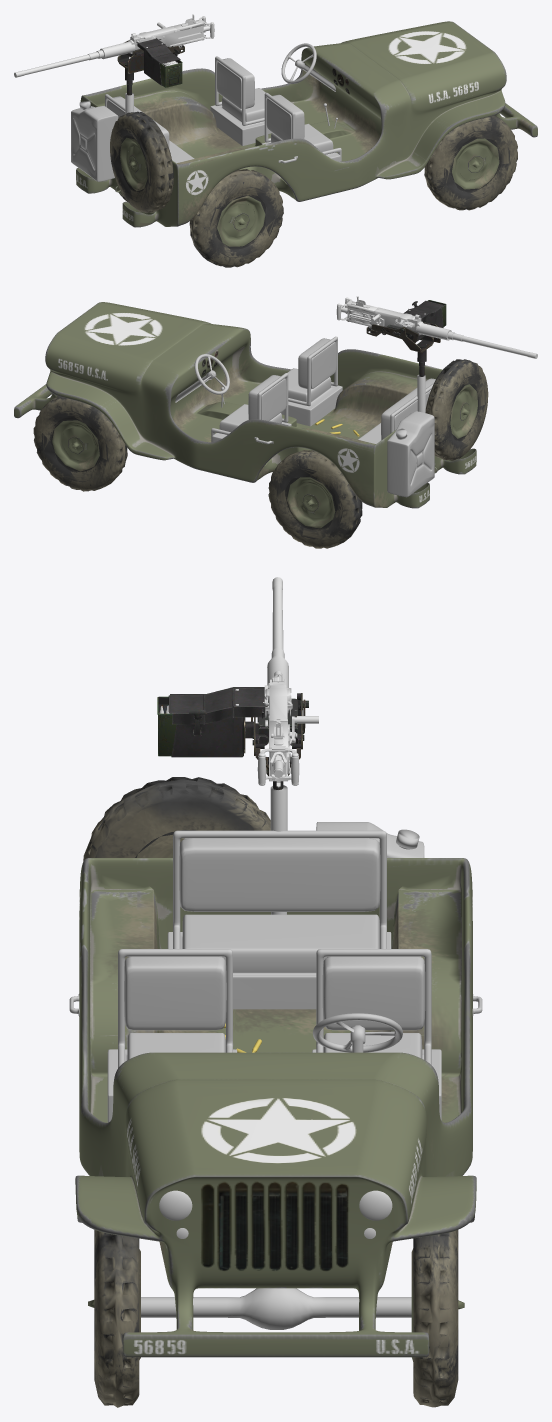
The model's file is car.fbx.
3 views of the same model, one above another, from view 1: azimuth 30°, elevation 25°; view 2: azimuth 150°, elevation 25°; view 3: azimuth 270°, elevation 25° (orthographic). The views are drawn at different scales.
Visible parts, largest first — view 1: Cube, Cube.006, Cylinder.002, Cylinder.003, Cylinder.004, M2_00, M2_02; view 2: Cube, Cube.006, Cylinder.001, Cylinder, Cylinder.004, M2_00, M2_02, M2_01, Cylinder.005; view 3: Cube, Cube.006, Cylinder.004, M2_02, Cylinder, Cylinder.003, Cube.011, M2_00.
Part boxes in pixels (<box>): Cube: <box>76,21,537,227</box>; Cube.006: <box>71,43,341,181</box>; Cylinder.002: <box>189,169,283,267</box>; Cylinder.003: <box>424,115,517,210</box>; Cylinder.004: <box>110,111,173,212</box>; M2_00: <box>14,14,214,77</box>; M2_02: <box>124,38,184,87</box>; Cube: <box>14,302,476,508</box>; Cube.006: <box>175,336,435,497</box>; Cylinder.001: <box>268,450,362,548</box>; Cylinder: <box>33,396,127,491</box>; Cylinder.004: <box>425,359,488,460</box>; M2_00: <box>336,296,537,358</box>; M2_02: <box>366,300,446,342</box>; M2_01: <box>400,327,433,376</box>; Cylinder.005: <box>417,374,425,412</box>; Cube: <box>75,858,476,1357</box>; Cube.006: <box>69,822,482,1122</box>; Cylinder.004: <box>83,777,270,861</box>; M2_02: <box>157,687,308,776</box>; Cylinder: <box>411,1230,464,1407</box>; Cylinder.003: <box>88,1230,140,1407</box>; Cube.011: <box>141,1288,411,1329</box>; M2_00: <box>159,577,318,787</box>.
Size of the model in its own units: 575 by 251 by 212.
